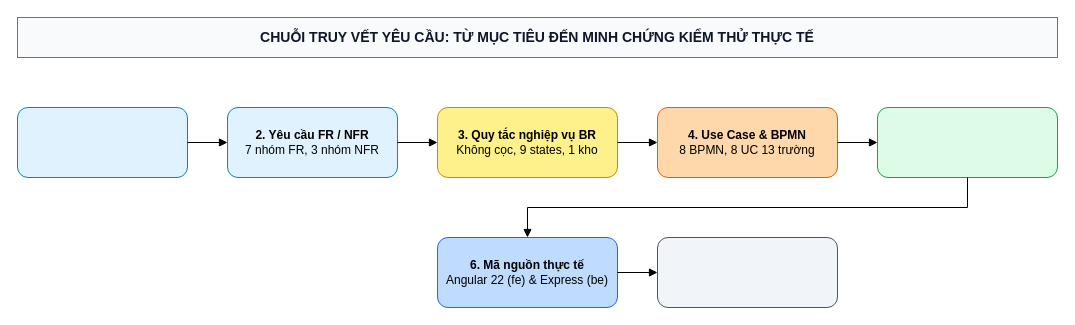
This 1075x325 diagram has some shape labels left out. Here are the shapes that lost their labels. From the top down, the centre of each, then its label:
At point (102, 142): "1. Mục tiêu đề tài PC Builder, Tra cứu, Tồn kho".
At point (967, 142): "5. Thiết kế Kỹ thuật DFD 3 cấp, ERD 6 phân cụm".
At point (747, 272): "7. Minh chứng kiểm thử Test Cases, Logs, Screenshots".
